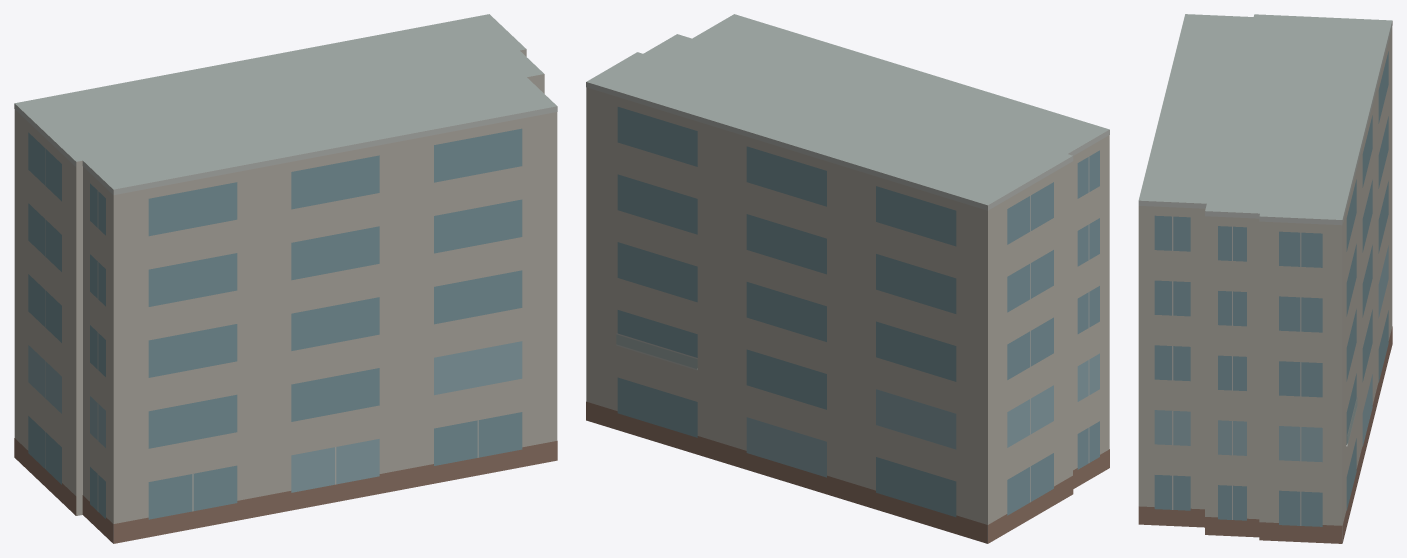
The model's file is survey-upis-32504025.glb.
3 views of the same model, side by side, from view 1: azimuth 30°, elevation 25°; view 2: azimuth 150°, elevation 25°; view 3: azimuth 270°, elevation 25° (orthographic). The views are drawn at different scales.
Parts seen in each view (by area): view 1: survey-upis-32504025.tmp; view 2: survey-upis-32504025.tmp; view 3: survey-upis-32504025.tmp.
Boxes of the visible parts, left/top/right/bottom form: survey-upis-32504025.tmp: left=14, top=14, right=557, bottom=543; survey-upis-32504025.tmp: left=586, top=14, right=1109, bottom=543; survey-upis-32504025.tmp: left=1138, top=14, right=1392, bottom=543.
Size of the model in its own units: 21.03 by 15.4 by 10.95.
